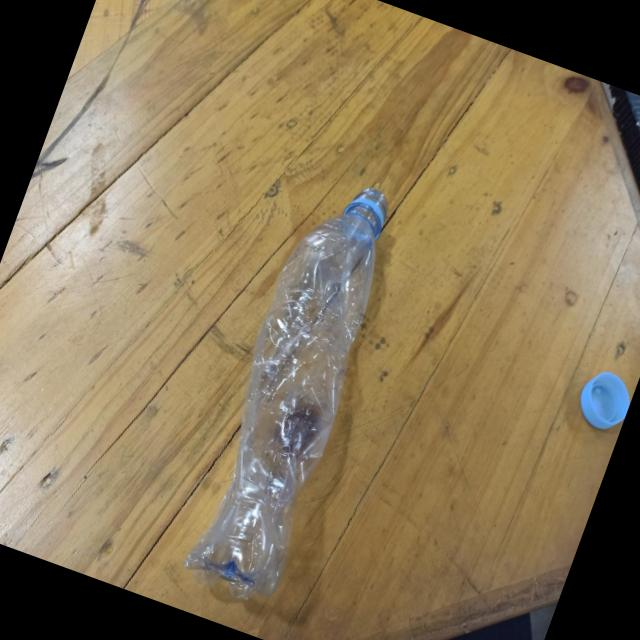BotolPlastik: (168, 164, 420, 610)
